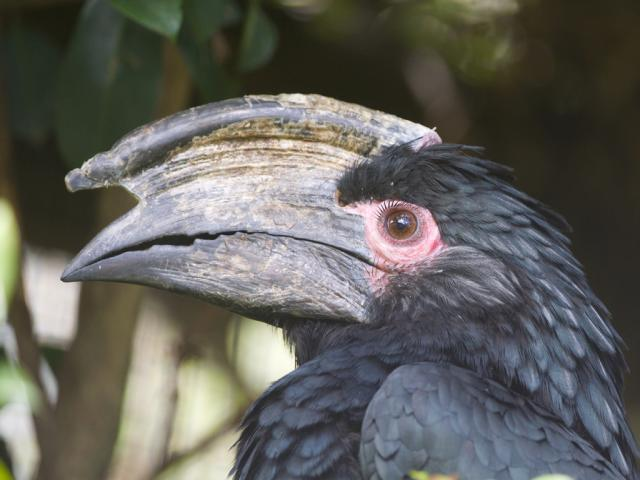Bird: (60, 89, 640, 480)
